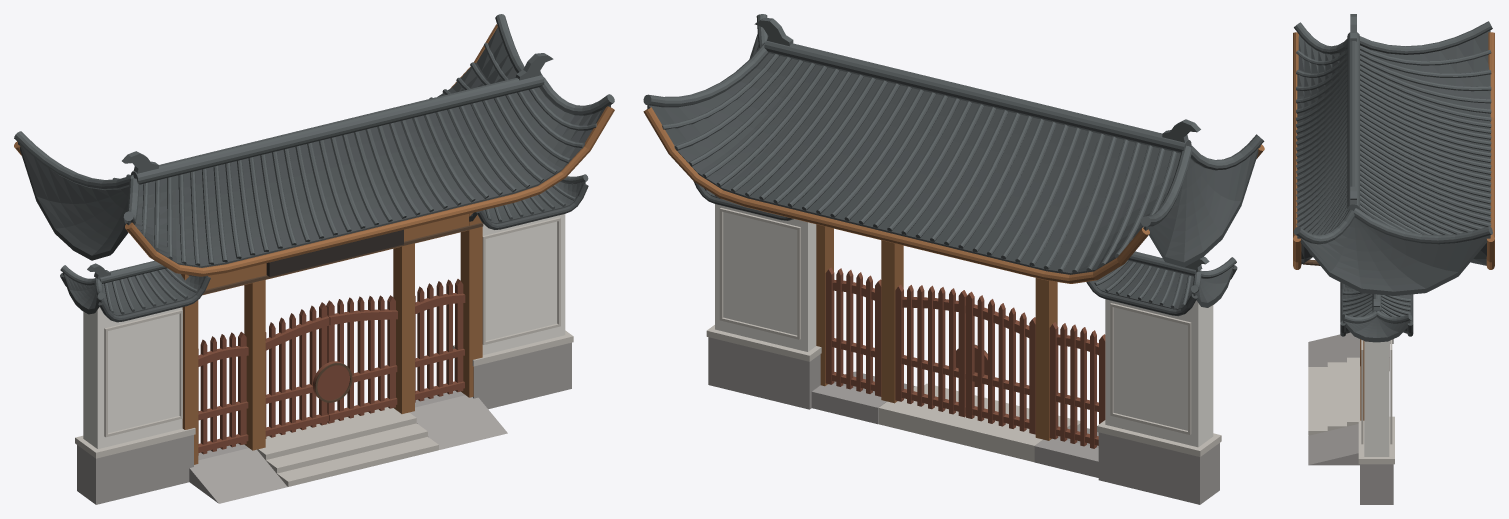
The model's file is full-source.glb.
3 views of the same model, side by side, from view 1: azimuth 30°, elevation 25°; view 2: azimuth 150°, elevation 25°; view 3: azimuth 270°, elevation 25° (orthographic). The views are drawn at different scales.
Visible parts, largest first — view 1: 复旦大学邯郸校区老校门; view 2: 复旦大学邯郸校区老校门; view 3: 复旦大学邯郸校区老校门.
Part boxes in pixels (bbox=[...]): 复旦大学邯郸校区老校门: bbox=[14, 14, 614, 504]; 复旦大学邯郸校区老校门: bbox=[643, 14, 1264, 504]; 复旦大学邯郸校区老校门: bbox=[1293, 14, 1494, 504].
Size of the model in its own units: 8.24 by 5.55 by 3.36.
